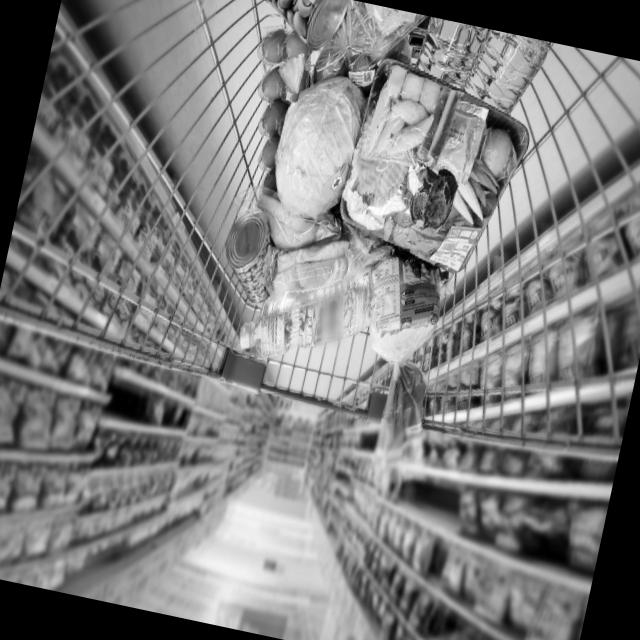bap cai: (263, 68, 374, 229)
bread: (332, 238, 471, 479)
egg: (233, 18, 320, 198)
oil: (229, 256, 383, 384)
